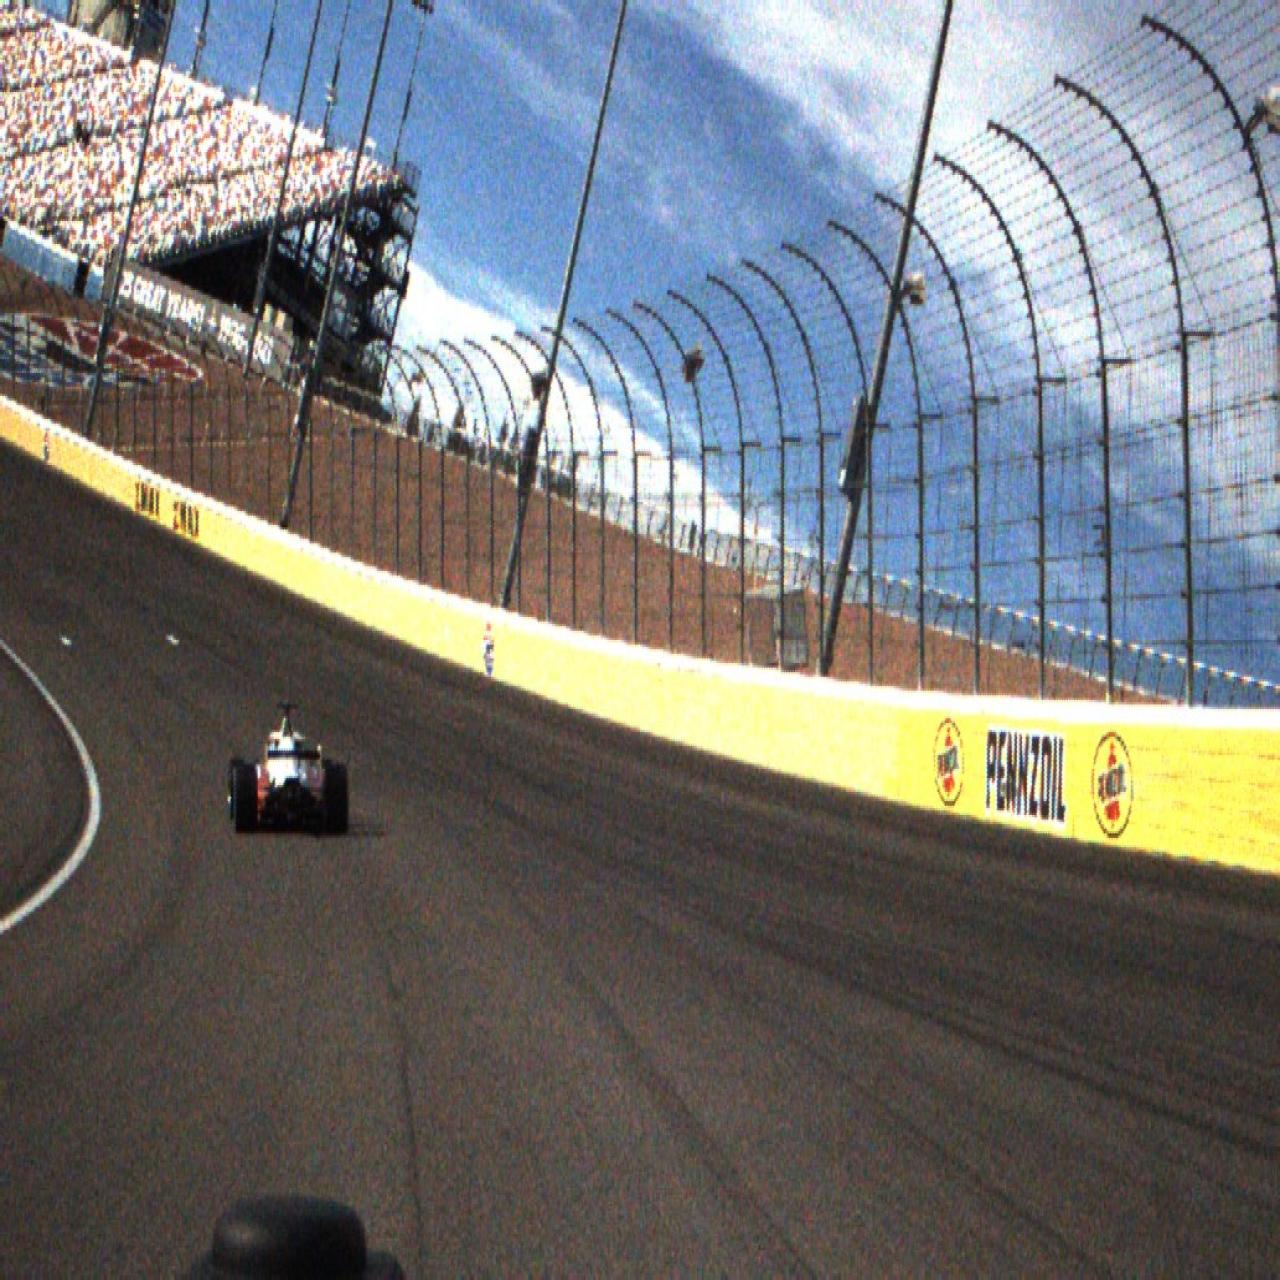AV: (229, 700, 347, 835)
Wheel: (233, 763, 257, 833), (325, 764, 348, 835), (229, 757, 245, 821)
